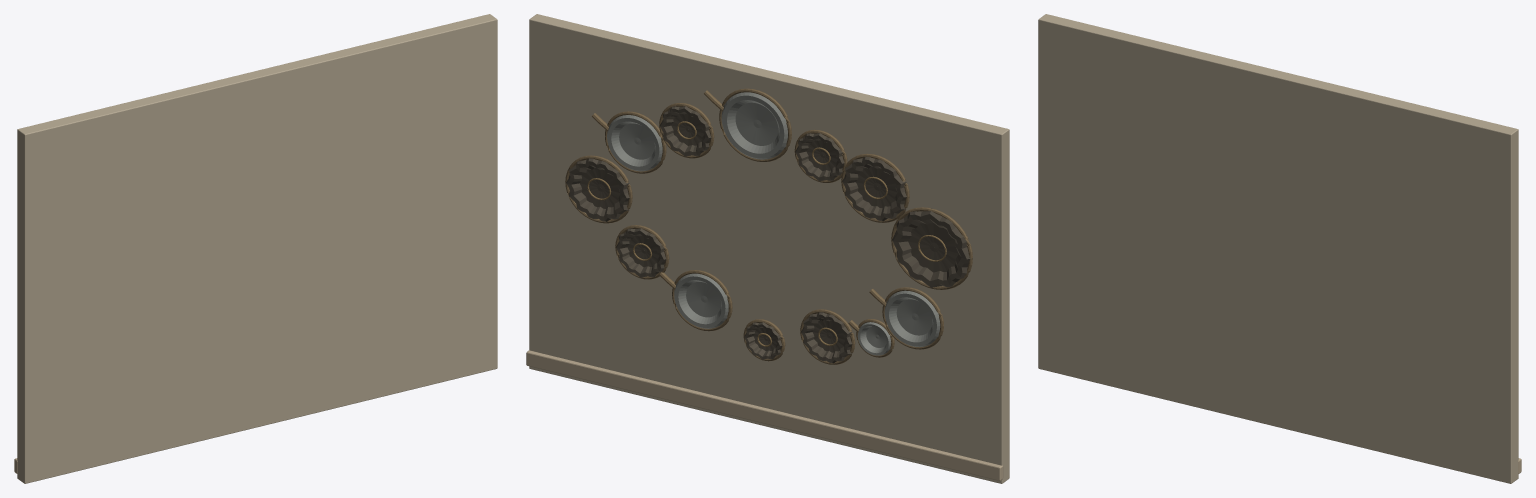
Rendered from wall.glb.
3 renders of one model, left to right at view 1: azimuth 30°, elevation 25°; view 2: azimuth 150°, elevation 25°; view 3: azimuth 330°, elevation 25°, orthographic.
Parts seen in each view (by area): view 1: 실내 조명 베이크용 wall; view 2: 실내 조명 베이크용 wall; view 3: 실내 조명 베이크용 wall.
Boxes of the visible parts, <box> form: 실내 조명 베이크용 wall: <box>14,14,497,483</box>; 실내 조명 베이크용 wall: <box>526,14,1009,483</box>; 실내 조명 베이크용 wall: <box>1038,14,1521,483</box>.
Bounding box in the file's own units: 4.27 × 3.01 × 0.2075.
